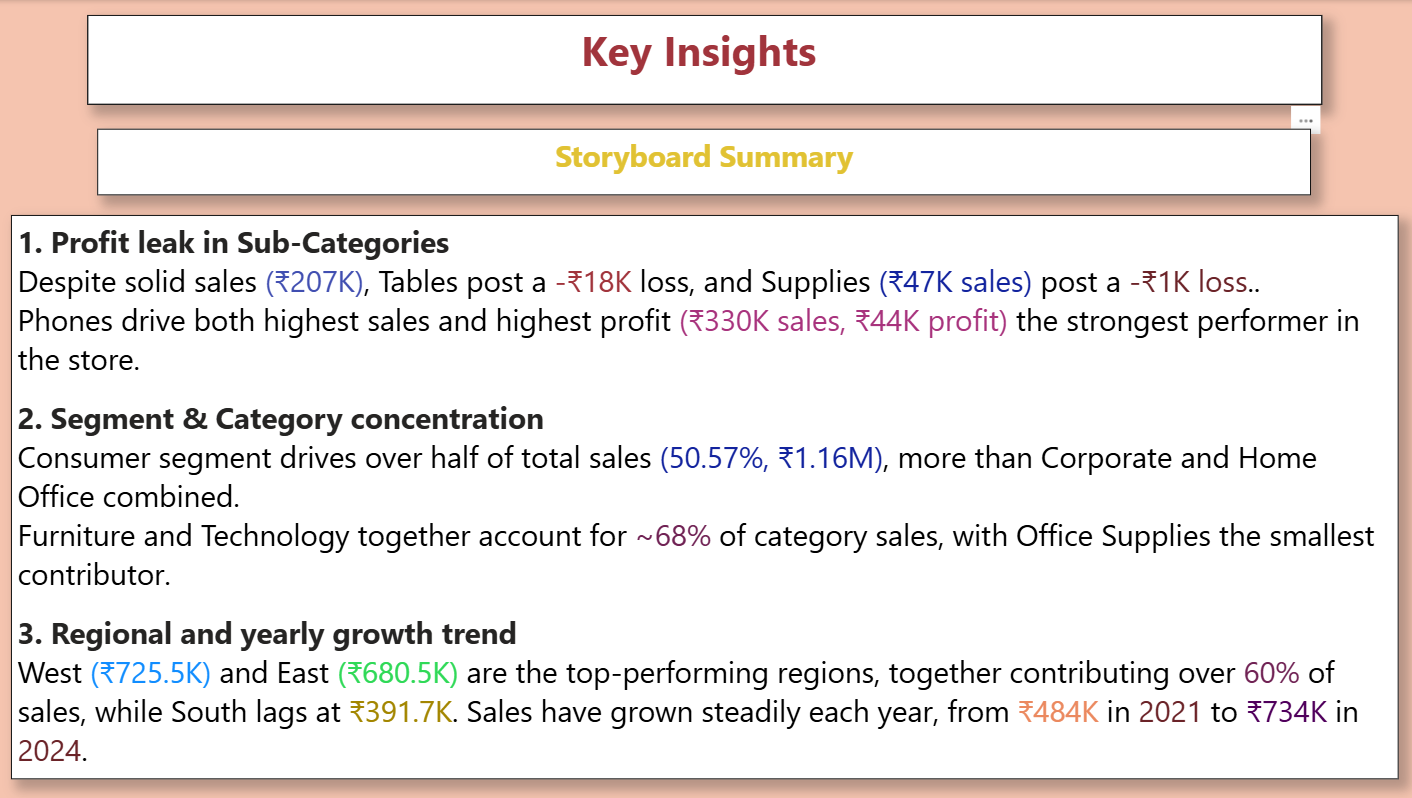

This screenshot's page, from the dashboard's own definition file:
{"tool":"powerbi","page":{"name":"Storyboard","canvas":[1280,720],"ordinal":1},"visuals":[{"type":"textbox","box":[13.7,194.1,1251.4,508.8],"z":0},{"type":"textbox","box":[82.1,13.7,1113.3,80.9],"z":1},{"type":"textbox","box":[90.8,115.7,1094.7,59.7],"z":2}]}

Visuals, with their boxes in screenshot pixels (x1, y1, x2, y2), scaled from the page's 1280x720 canvas onto the 1412x798 screenshot:
textbox: 15:215:1396:779
textbox: 91:15:1319:105
textbox: 100:128:1308:194
